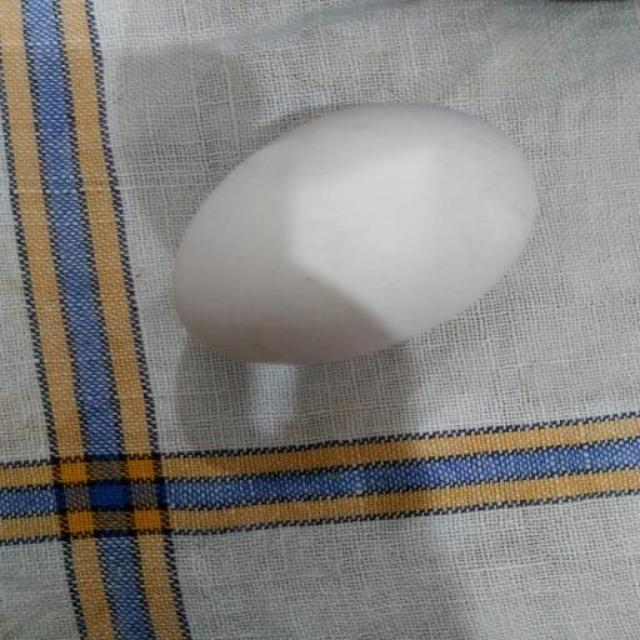telur: (167, 100, 545, 369)
